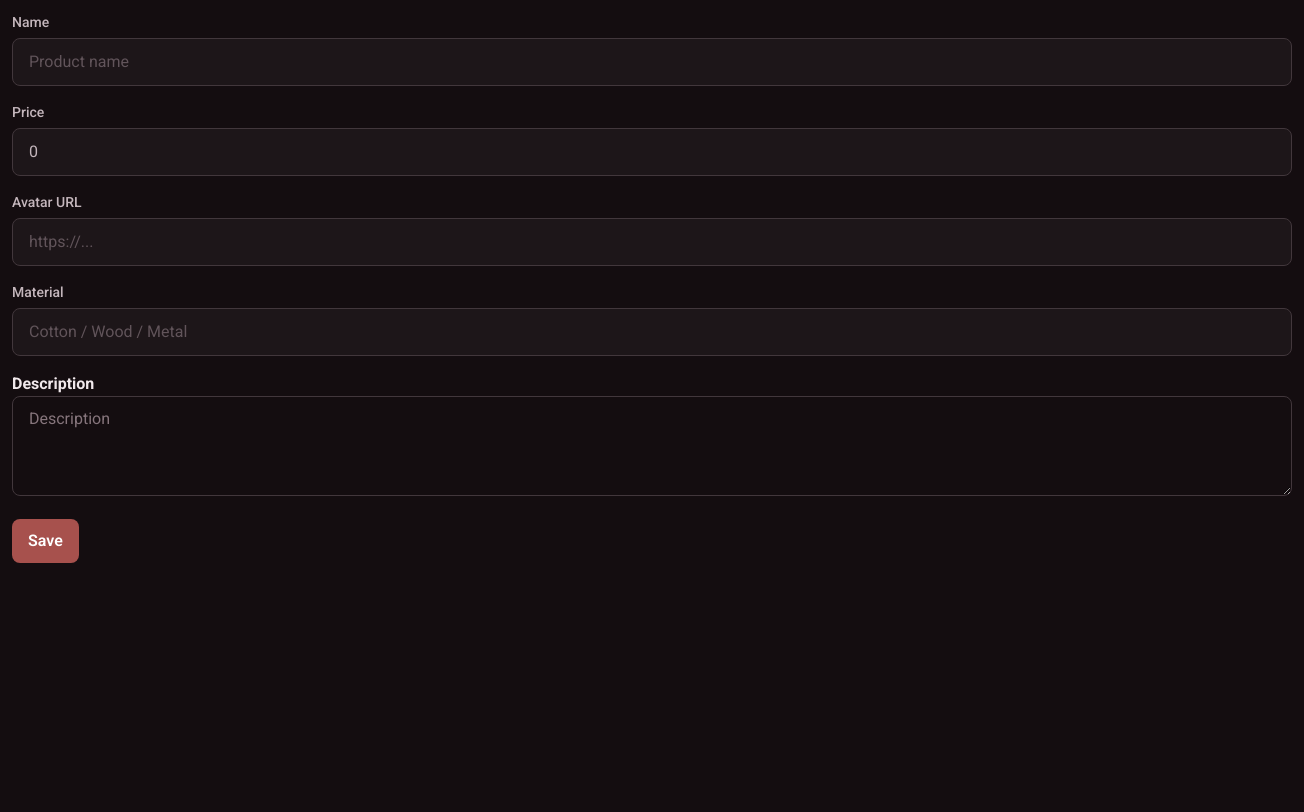
Test: ProductForm › shows price validation error for negative number
Type "Desk" into the field labelled "Name" at (652, 62), box [29,50,1275,74]
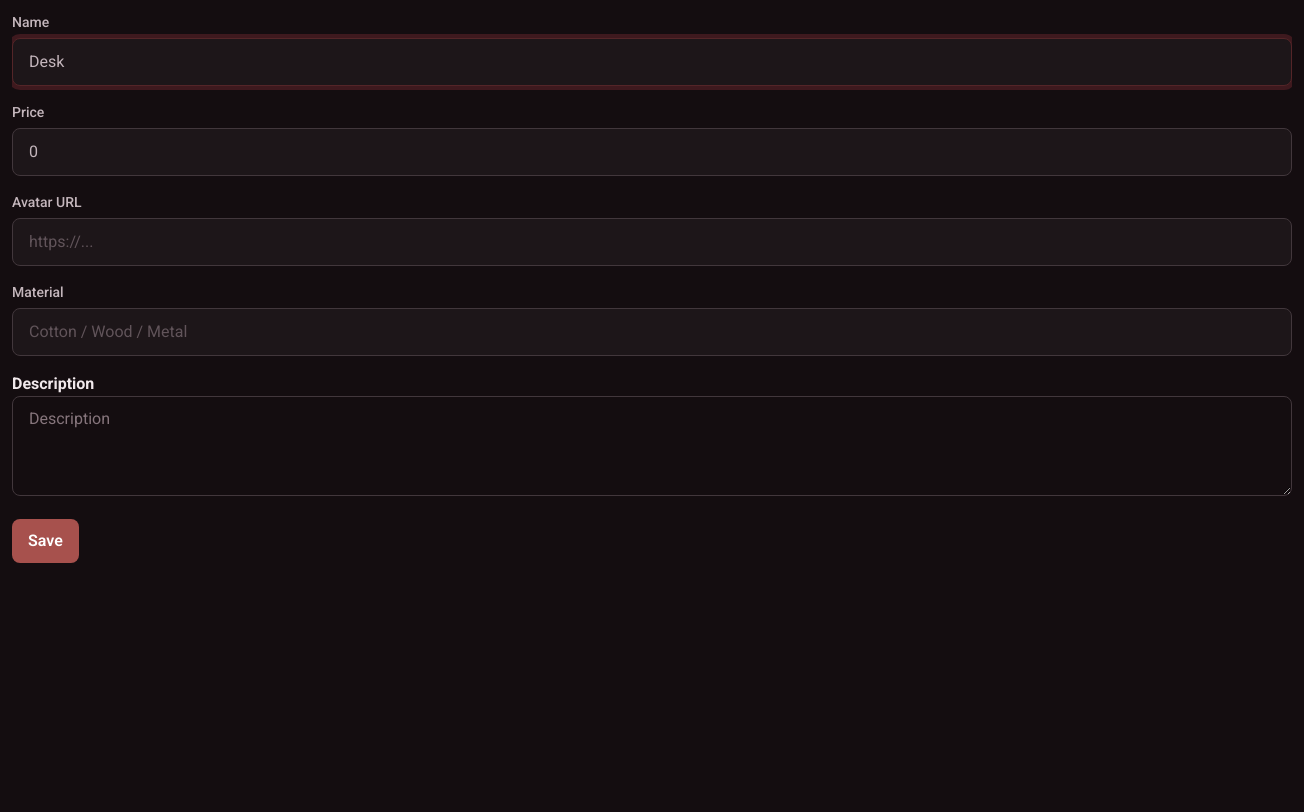
Type "-1" into the number field labelled "Price" at (652, 152), box [29,140,1275,164]
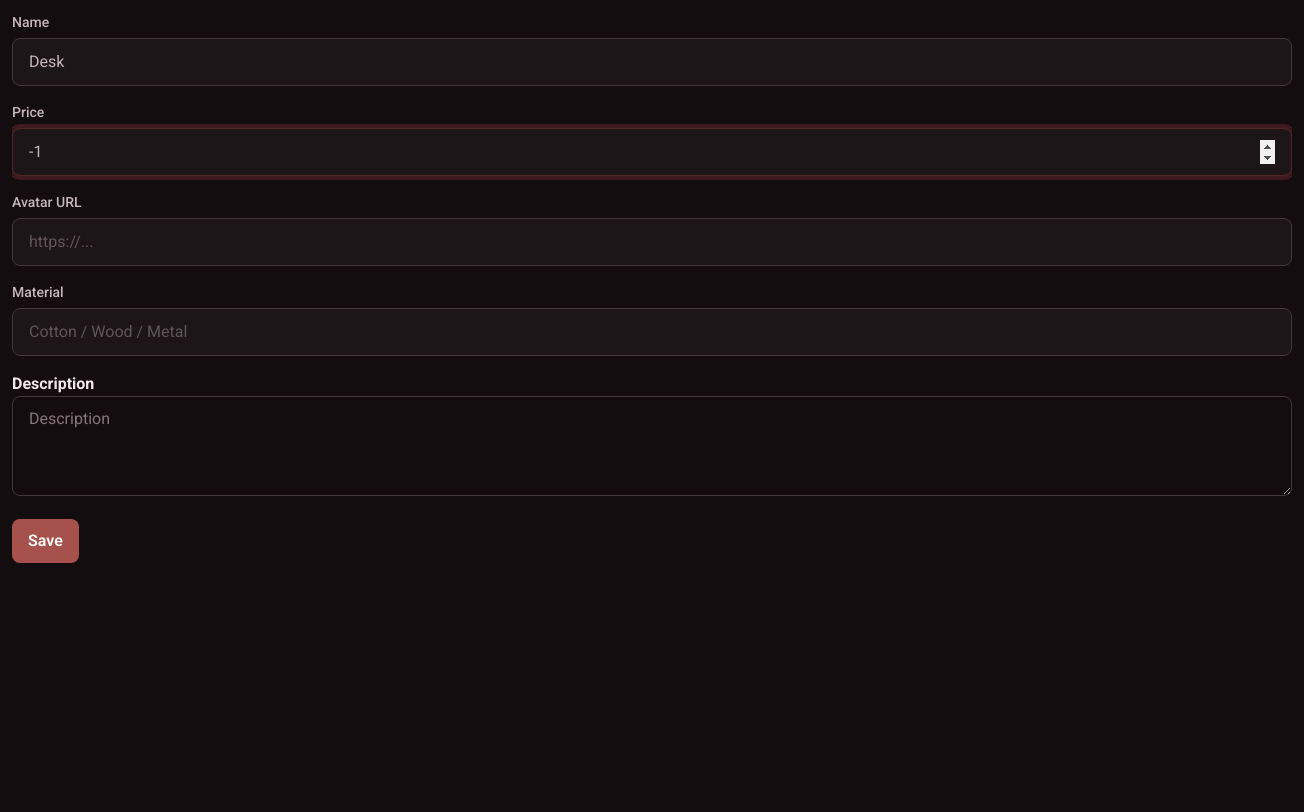
Click the button "Save" at (45, 541), box [12,519,79,563]
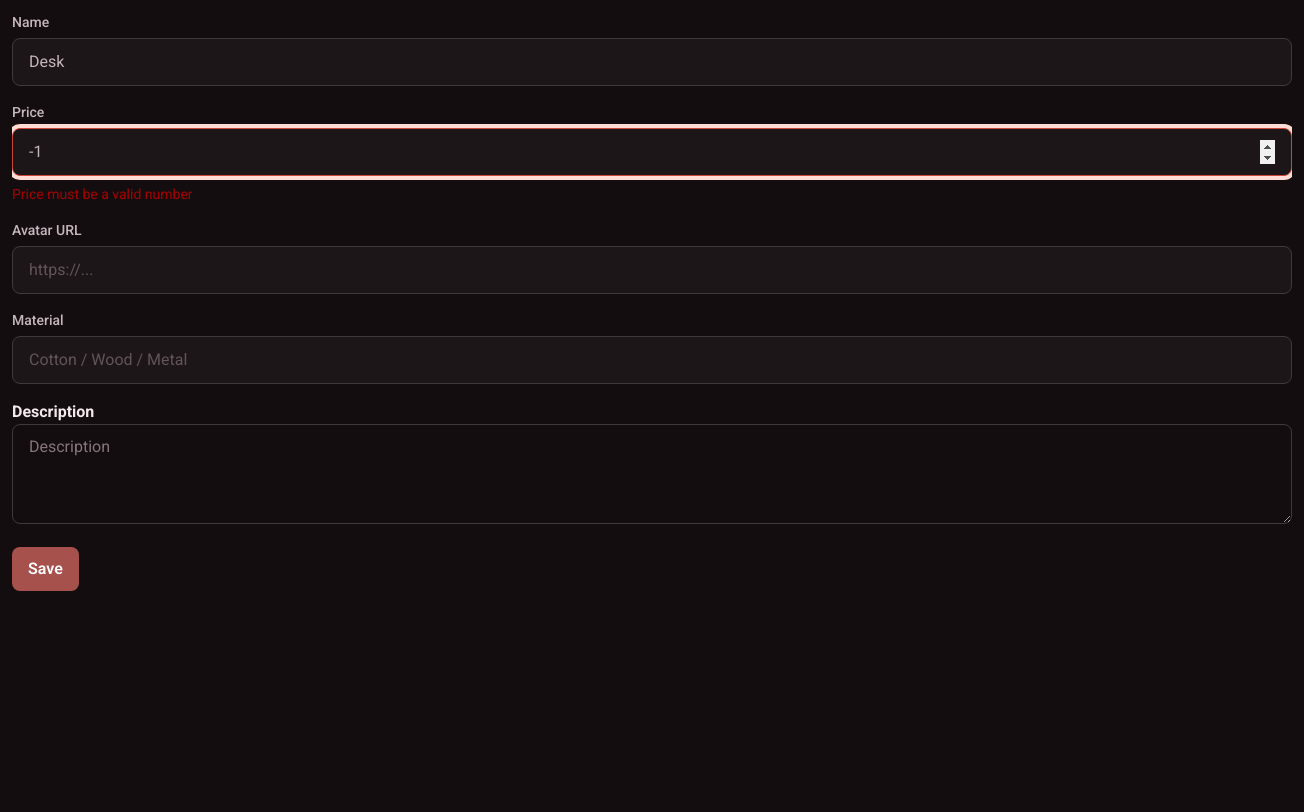
Expected: the text "Price must be a valid number" is shown, [12,186,193,202]
